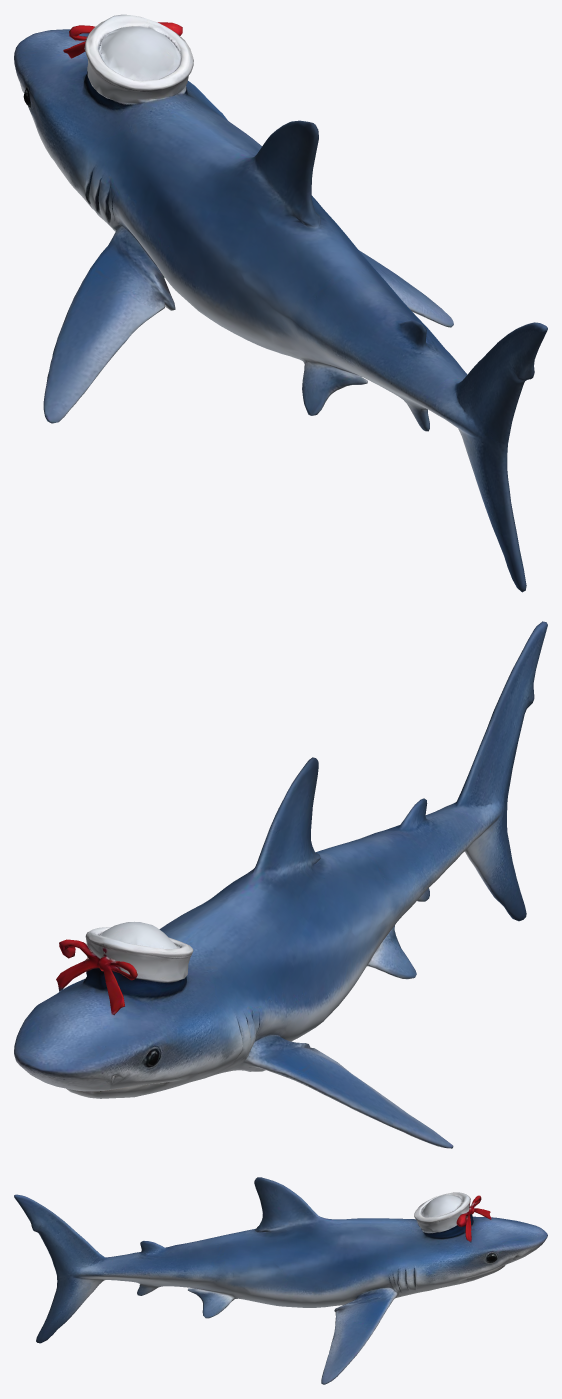
File: shark.glb
3 renders of one model, top to bottom at view 1: azimuth 30°, elevation 25°; view 2: azimuth 150°, elevation 25°; view 3: azimuth 270°, elevation 25°, orthographic. The views are drawn at different scales.
Visible parts, largest first — view 1: tripo_node_2f0154f1-0766-468b-bf20-be8579f9cf31; view 2: tripo_node_2f0154f1-0766-468b-bf20-be8579f9cf31; view 3: tripo_node_2f0154f1-0766-468b-bf20-be8579f9cf31.
Part boxes in pixels (x1=…): tripo_node_2f0154f1-0766-468b-bf20-be8579f9cf31: x1=14, y1=14, x2=547, y2=592; tripo_node_2f0154f1-0766-468b-bf20-be8579f9cf31: x1=14, y1=621, x2=547, y2=1148; tripo_node_2f0154f1-0766-468b-bf20-be8579f9cf31: x1=14, y1=1177, x2=547, y2=1384.
Size of the model in its own units: 0.4614 by 0.3428 by 1.
Materials: 1 (1 with a texture image).
